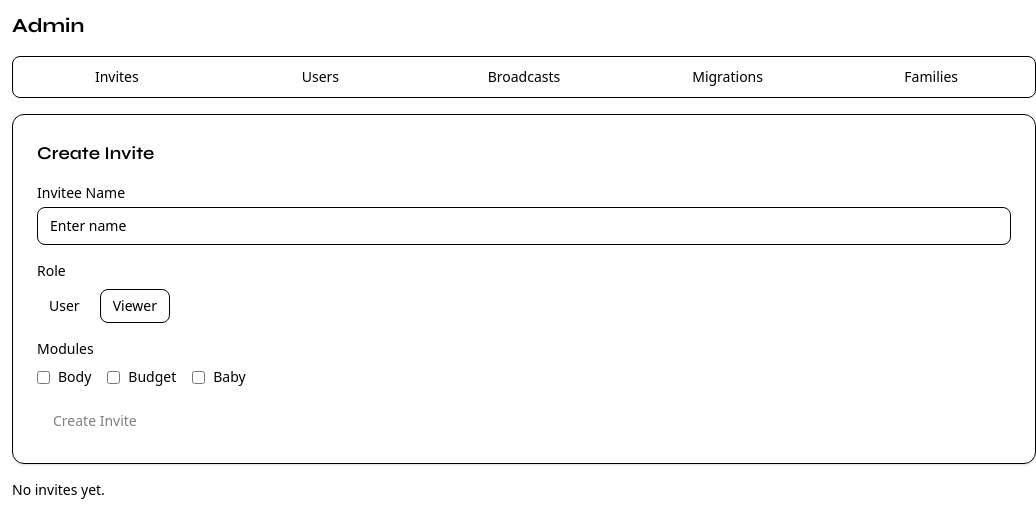
Scenario: AdminPanel › switches to Migrations tab and shows the diaper→elimination panel
This screenshot has width=1036, height=516.
Click the button "Migrations": {"x": 728, "y": 77} [628,61,827,93]
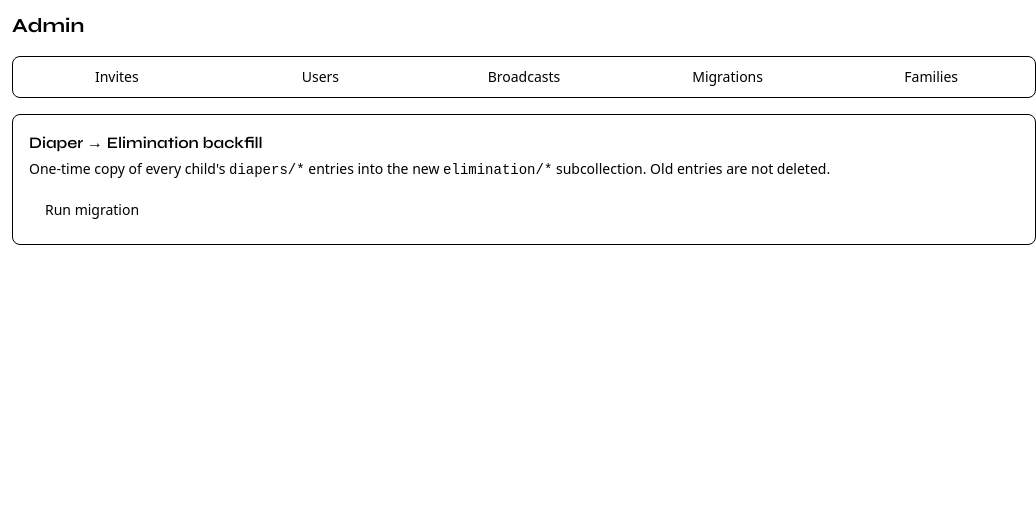
Check: the heading "Diaper → Elimination backfill" is shown, box [29,133,263,152]
Check: the button "Run migration" is shown, box [29,192,155,228]
